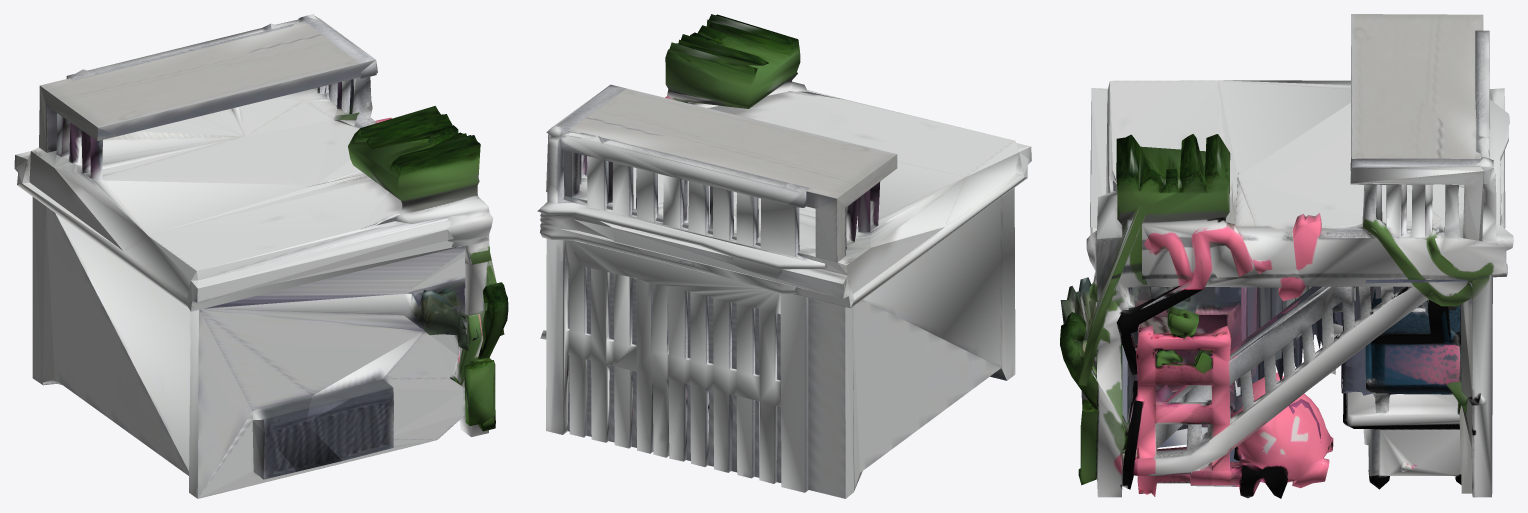
The picture shows the model from 3 angles, left to right: view 1: azimuth 30°, elevation 25°; view 2: azimuth 150°, elevation 25°; view 3: azimuth 270°, elevation 25°; orthographic projection. The views are drawn at different scales.
Visible parts, largest first — view 1: 带粉色柜子; view 2: 带粉色柜子; view 3: 带粉色柜子.
Boxes of the visible parts, left/top/right/bottom form: 带粉色柜子: left=14, top=14, right=508, bottom=498; 带粉色柜子: left=537, top=14, right=1031, bottom=498; 带粉色柜子: left=1060, top=14, right=1513, bottom=498.
Size of the model in its own units: 10.53 by 9.85 by 12.
